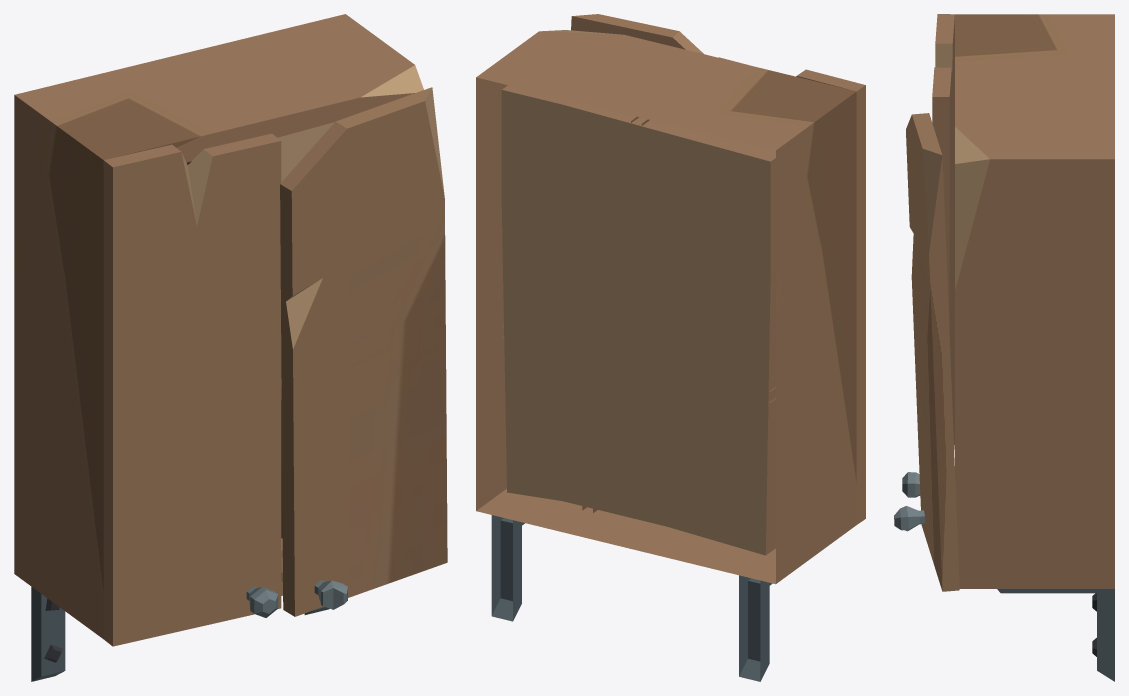
Rendered from SM_Shelf_02.fbx.
3 renders of one model, left to right at view 1: azimuth 30°, elevation 25°; view 2: azimuth 150°, elevation 25°; view 3: azimuth 270°, elevation 25°, orthographic. The views are drawn at different scales.
Visible parts, largest first — view 1: SM_Shelf_Door_L, SM_Shelf_02, SM_Shelf_Door_R; view 2: SM_Shelf_02, SM_Shelf_Door_L, SM_Shelf_Door_R; view 3: SM_Shelf_02, SM_Shelf_Door_R, SM_Shelf_Door_L.
Part boxes in pixels (bbox=[...]): SM_Shelf_Door_L: bbox=[103, 133, 281, 646]; SM_Shelf_02: bbox=[14, 14, 423, 681]; SM_Shelf_Door_R: bbox=[280, 87, 447, 616]; SM_Shelf_02: bbox=[476, 30, 856, 681]; SM_Shelf_Door_L: bbox=[718, 57, 865, 524]; SM_Shelf_Door_R: bbox=[571, 14, 703, 53]; SM_Shelf_02: bbox=[955, 14, 1114, 681]; SM_Shelf_Door_R: bbox=[894, 113, 959, 591]; SM_Shelf_Door_L: bbox=[902, 14, 954, 497].
Size of the model in its own units: 54.75 by 91.65 by 34.61.
